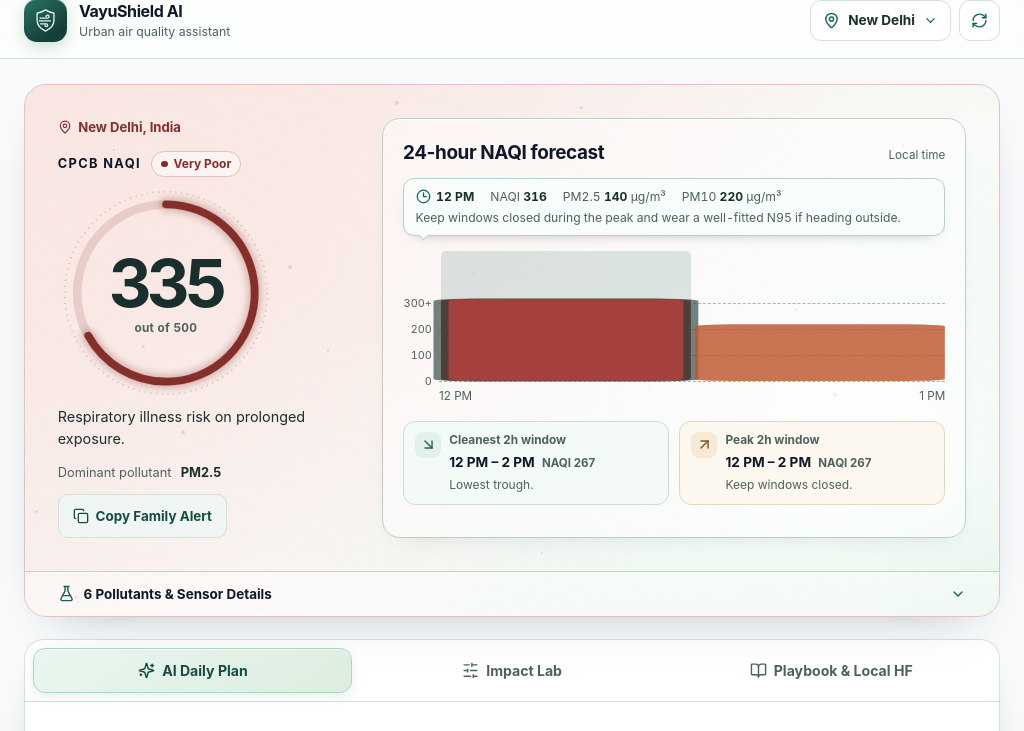
Scenario: Keyboard Navigation, Disclosures & RoomClean SVG Semantics › renders RoomCleanCurve SVG with accessible title/desc and continuous curve across presets
The width and height of the screenshot is (1024, 731).
Expected: the text "335" is shown, 109,249 -> 223,317
Click the tab "Impact Lab": click(512, 670) 352,648 -> 672,693
(page scrolled)
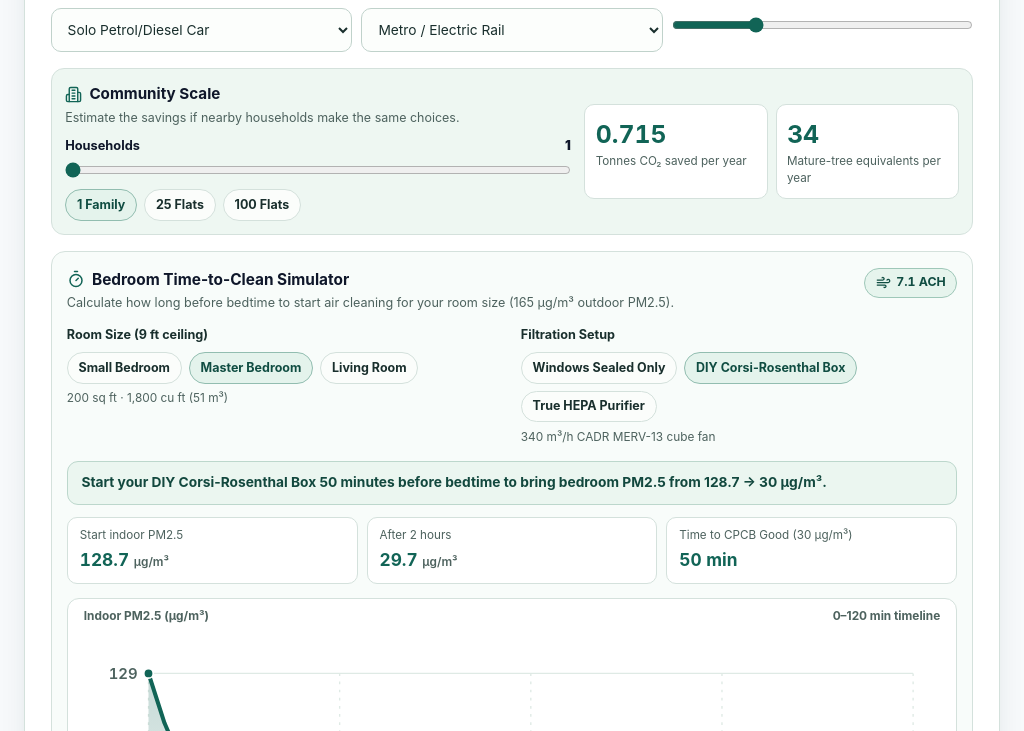
Click the button "Small Bedroom": click(124, 368) 67,352 -> 182,384
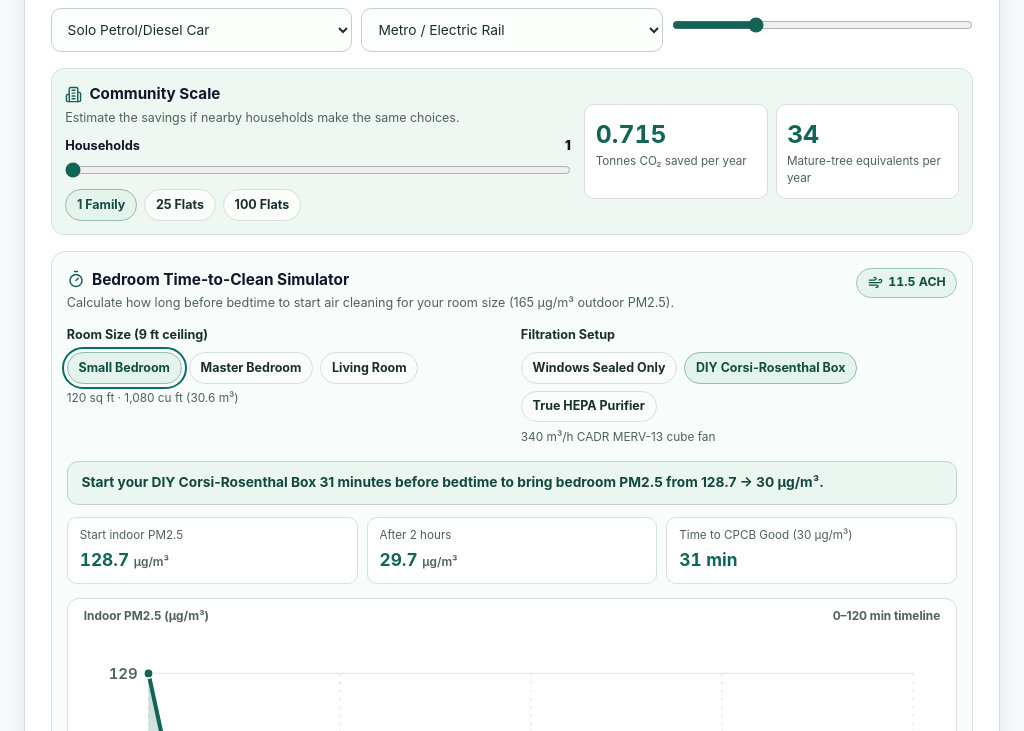
Click the button "True HEPA Purifier": click(589, 407) 521,391 -> 657,422
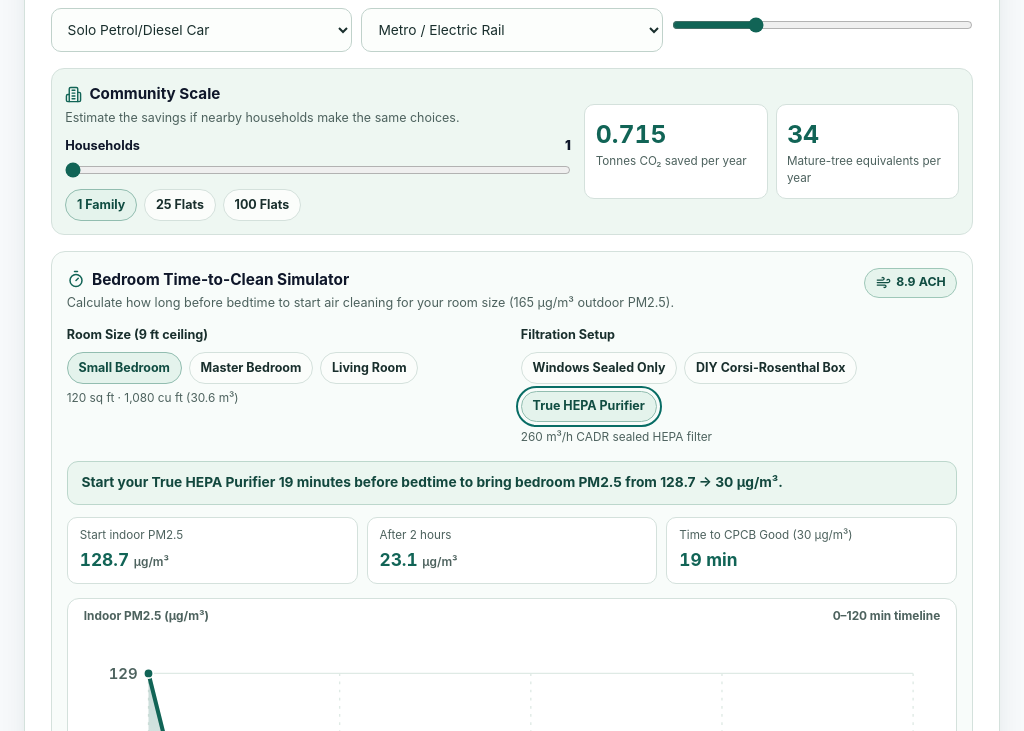
Expected: the text "Start your True HEPA Purifier" is shown, 81,474 -> 783,490
Click the button "Living Room": click(369, 368) 320,352 -> 418,384
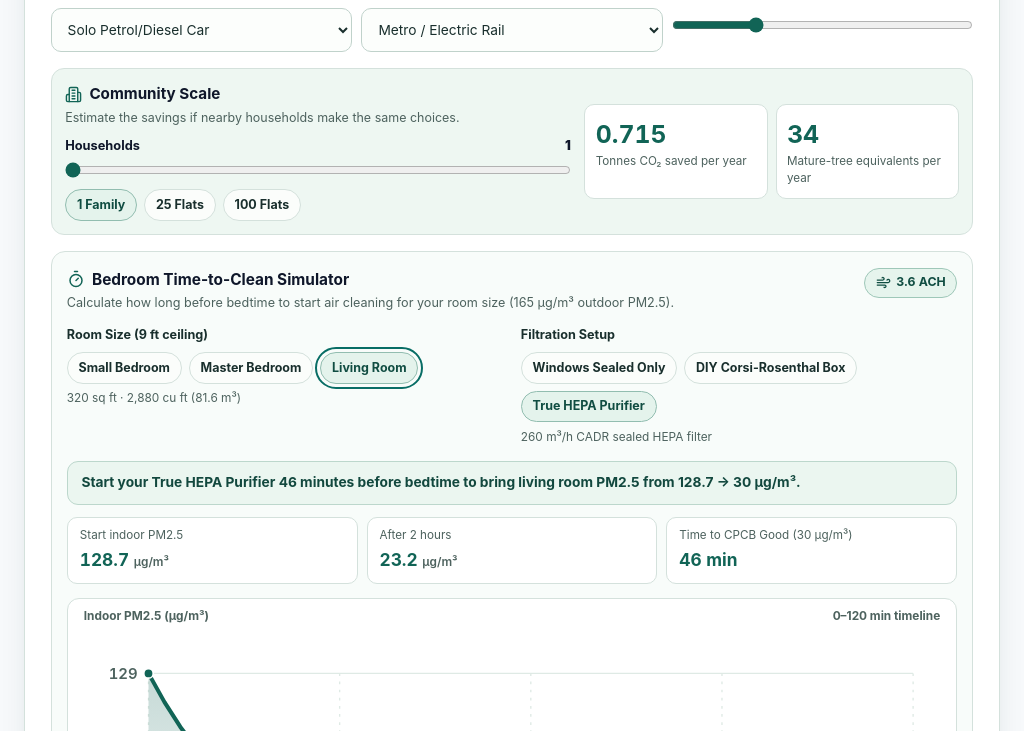
Click the button "Windows Sealed Only": click(599, 368) 521,352 -> 677,384
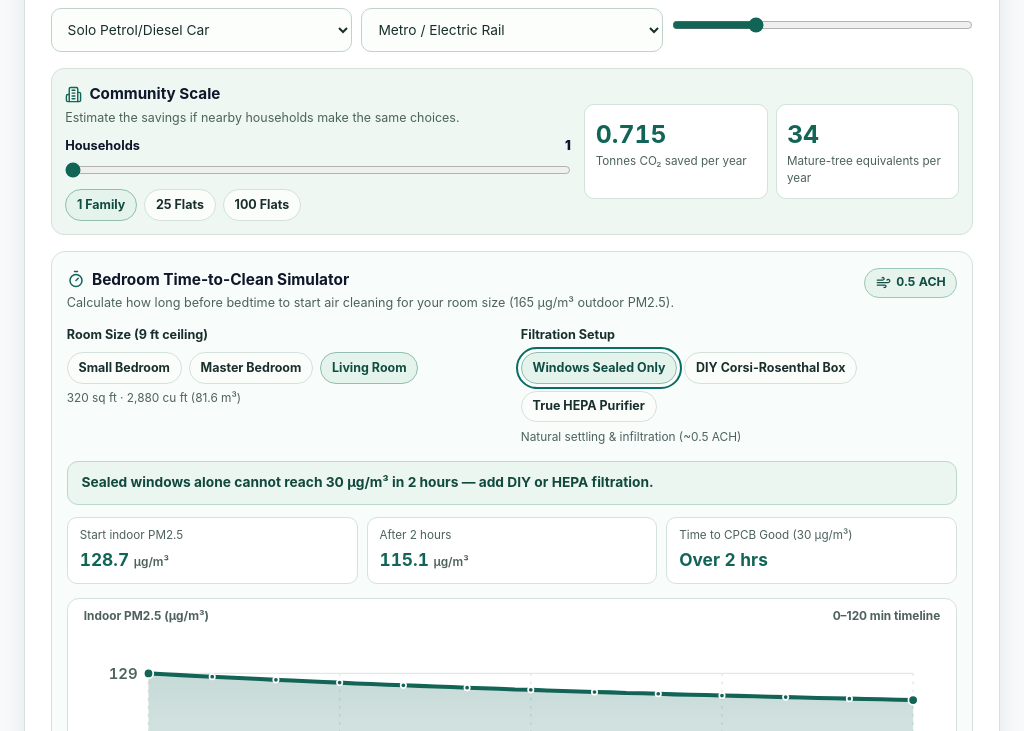
Expected: the element with class "room-curve-line" is shown, 149,673 -> 913,700
Expected: the text "Sealed windows alone cannot reach 30 µg/m³" is shown, 81,474 -> 654,490
